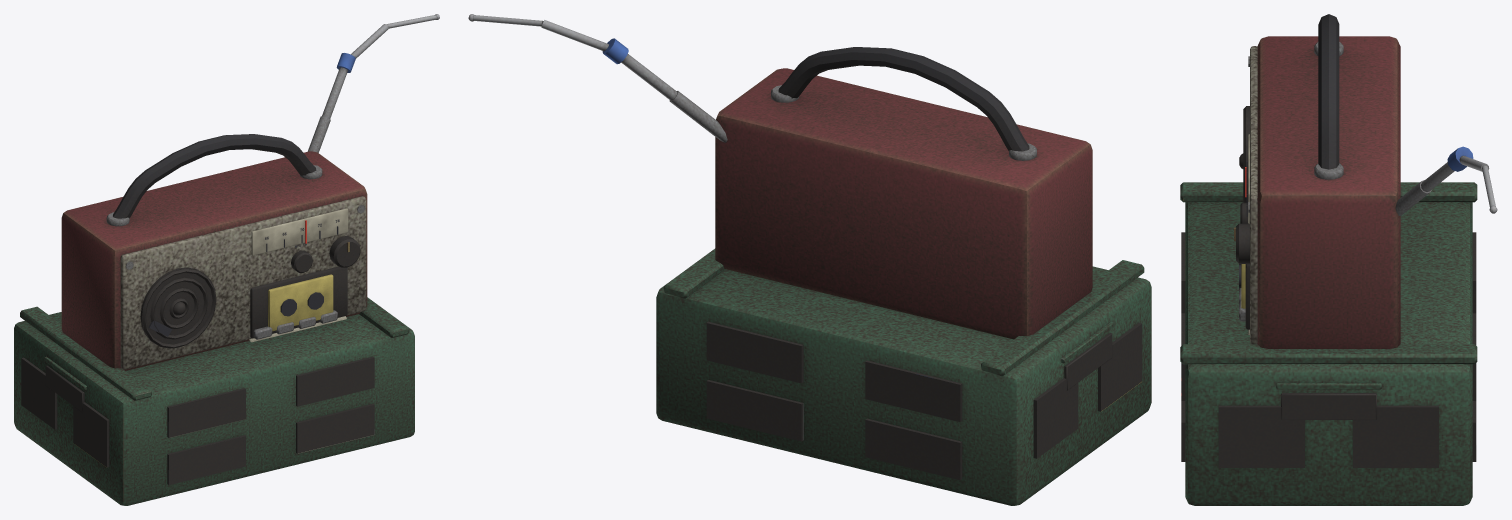
Rendered from g67_garage_radio.glb.
3 renders of one model, left to right at view 1: azimuth 30°, elevation 25°; view 2: azimuth 150°, elevation 25°; view 3: azimuth 270°, elevation 25°, orthographic. The views are drawn at different scales.
Visible parts, largest first — view 1: crate, radio_body, radio_face, handle, spk_bed, hole_f.002, hole_f, hole_f.001, hole_f.003, rib, dial, cassette (+9 smaller); view 2: radio_body, crate, handle, hole_b, hole_b.001, hole_b.002, hole_b.003, rib, antenna, hole_s.001, hole_s, rib.001 (+1 smaller); view 3: crate, radio_body, rib.001, hole_s2, hole_s2.001, handle, grip.001, rib, radio_face, antenna, grip_edge.001, knob (+2 smaller).
Part boxes in pixels (x1,y1,x2,y2): crate: (14,312,414,505); radio_body: (61,151,367,370); radio_face: (120,196,366,369); handle: (113,134,316,218); spk_bed: (140,267,216,348); hole_f.002: (296,404,374,453); hole_f: (167,435,245,484); hole_f.001: (167,388,245,437); hole_f.003: (296,356,374,406); rib: (20,306,151,400); dial: (251,208,348,255); cassette: (268,274,333,331); radio_body: (715,68,1092,339); crate: (656,266,1151,505); handle: (778,47,1029,151); hole_b: (865,418,962,480); hole_b.001: (865,360,962,422); hole_b.002: (706,380,803,441); hole_b.003: (706,321,803,383); rib: (981,260,1144,376); antenna: (468,14,727,142); hole_s.001: (1033,378,1078,458); hole_s: (1098,323,1142,411); rib.001: (663,249,725,298); crate: (1185,202,1472,505); radio_body: (1257,36,1400,348); rib.001: (1180,344,1477,364); hole_s2: (1218,405,1304,467); hole_s2.001: (1353,405,1438,467); handle: (1318,14,1339,169); grip.001: (1281,393,1376,419); rib: (1180,182,1477,202); radio_face: (1250,46,1257,344); antenna: (1395,146,1497,215); grip_edge.001: (1276,383,1381,389); knob: (1234,223,1249,263).
Bounding box in the file's own units: 0.6838 × 0.4591 × 0.331.
Materials: 1 (1 with a texture image).
